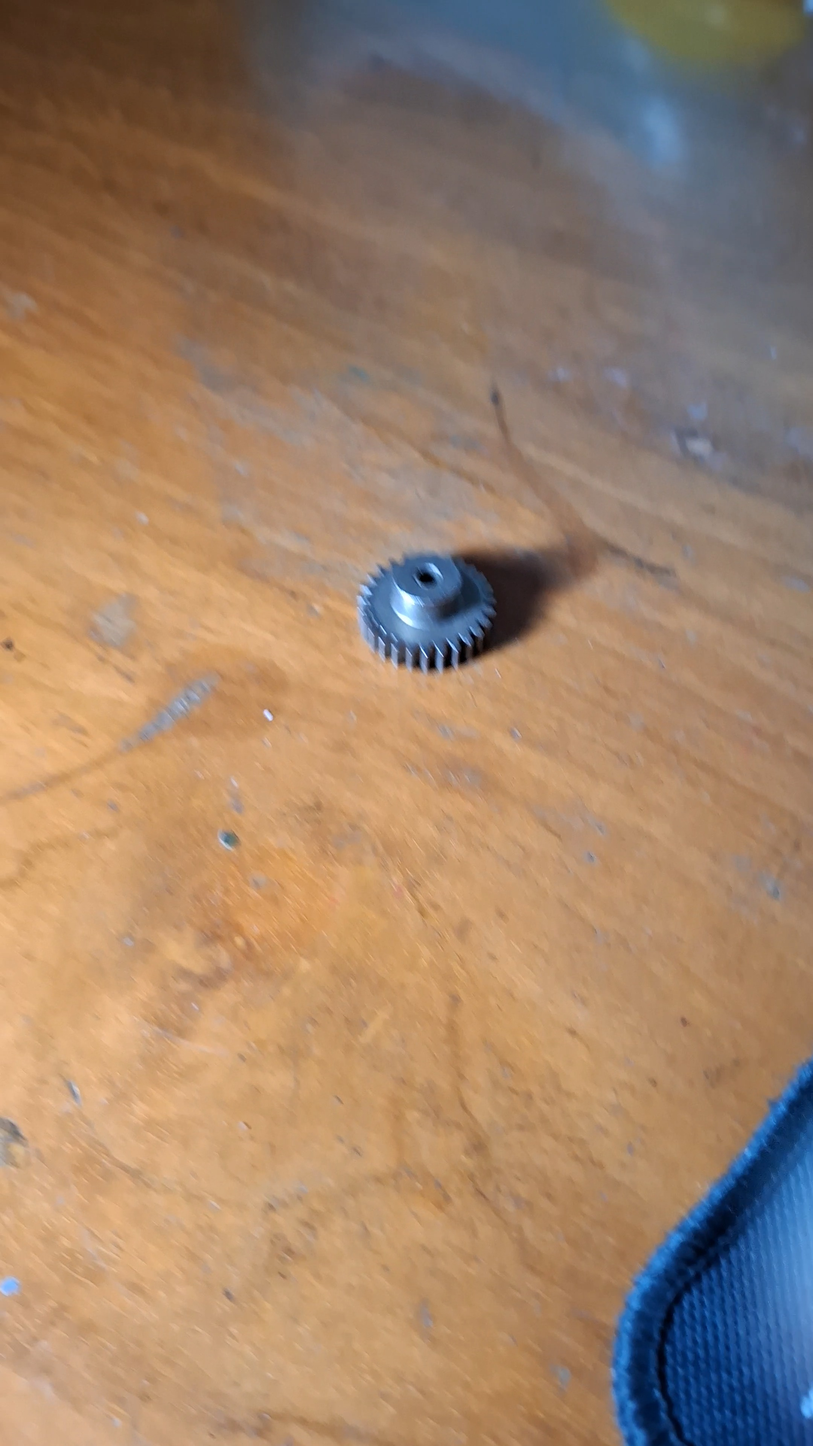spur gear: (358, 554, 494, 671)
